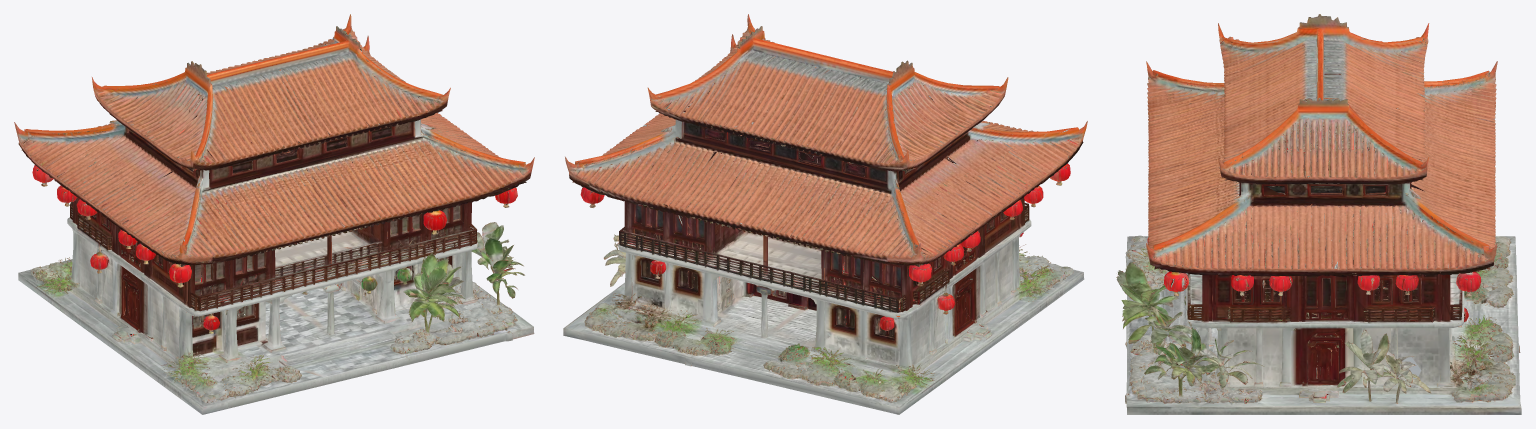
Rendered from bq_yamen.hd.glb.
The picture shows the model from 3 angles, left to right: view 1: azimuth 30°, elevation 25°; view 2: azimuth 150°, elevation 25°; view 3: azimuth 270°, elevation 25°; orthographic projection. The views are drawn at different scales.
Size of the model in its own units: 1.89 by 1.29 by 1.72.
1 material, 1 textured.
